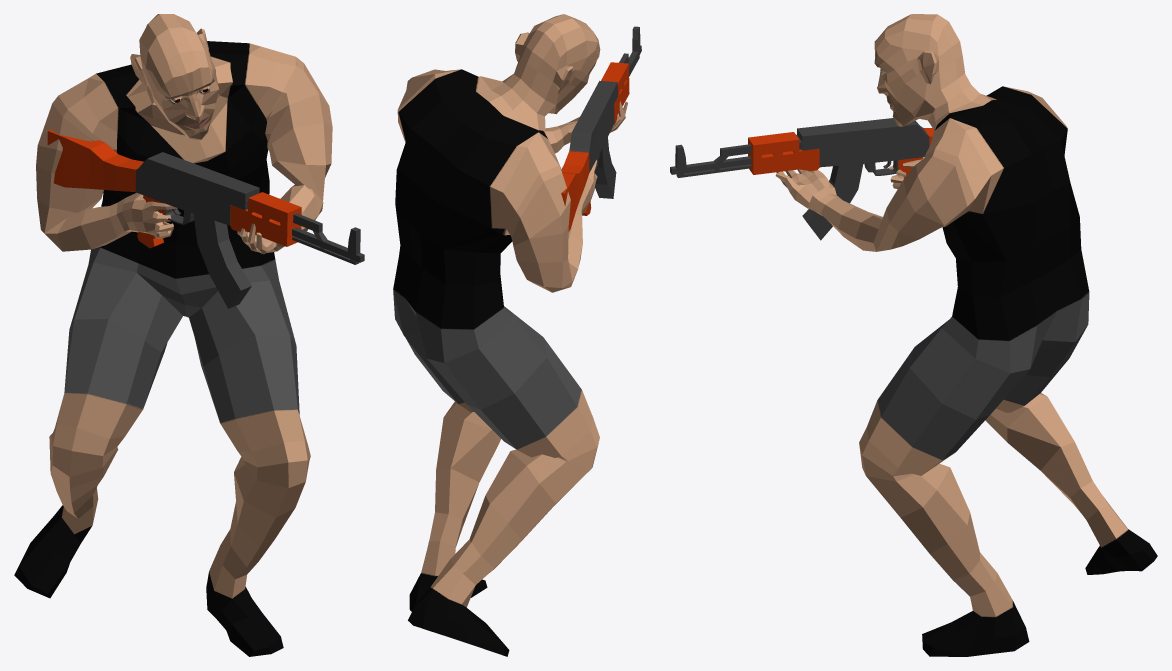
File: PlayerWalk(14).obj
3 views of the same model, side by side, from view 1: azimuth 30°, elevation 25°; view 2: azimuth 150°, elevation 25°; view 3: azimuth 270°, elevation 25° (orthographic). The views are drawn at different scales.
Parts seen in each view (by area): view 1: Plane002, Object001; view 2: Plane002, Object001; view 3: Plane002, Object001.
Part boxes in pixels (box(x1,y1,x2,y2)): Plane002: box(14, 14, 332, 656); Object001: box(47, 130, 364, 308); Plane002: box(393, 14, 627, 656); Object001: box(561, 26, 641, 231); Plane002: box(775, 14, 1157, 656); Object001: box(670, 118, 933, 240).
Bounding box in the file's own units: 604 × 1574 × 1179.
